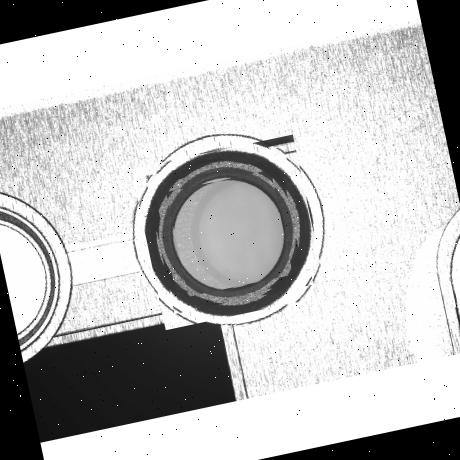Hole: (130, 132, 328, 330)
Hole2: (145, 145, 313, 313)
Hole3: (154, 156, 305, 308)
Hole4: (166, 168, 294, 296)
